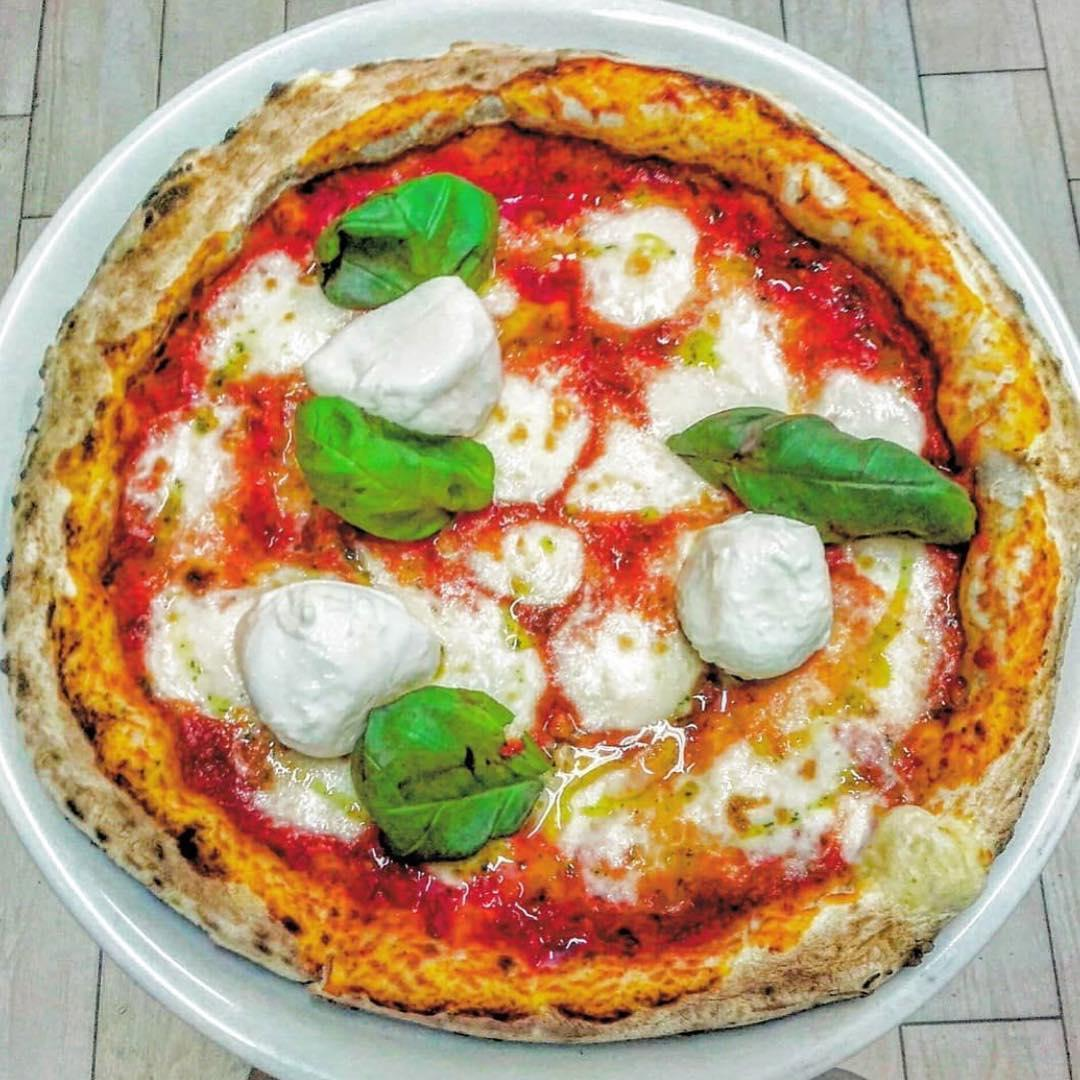Basil: (668, 388, 987, 559), (363, 678, 551, 865), (295, 393, 501, 549), (320, 163, 503, 303)
Cheese: (300, 271, 509, 463), (245, 580, 445, 761), (673, 501, 839, 703), (716, 696, 859, 855), (846, 550, 955, 735), (568, 741, 687, 903), (558, 593, 683, 739), (583, 213, 723, 337), (148, 593, 253, 721), (586, 418, 697, 523), (146, 423, 235, 547), (441, 596, 535, 713), (223, 263, 309, 387), (663, 333, 793, 415), (501, 393, 581, 513), (816, 373, 933, 443), (500, 531, 579, 603)
Pizza: (0, 46, 1073, 1047)
